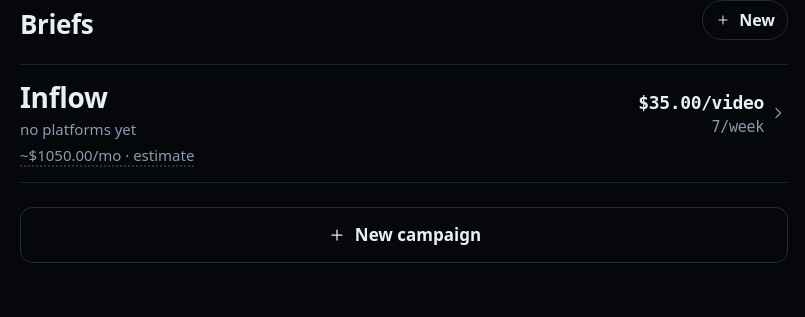
Test: pay per month on each brief › refuses something that is not an amount rather than storing a guess
Expected: the heading "Briefs" is shown, [20,8,93,40]
Click the button with aria-label "Pay per month for Inflow" at (107, 156), box [20,145,194,166]
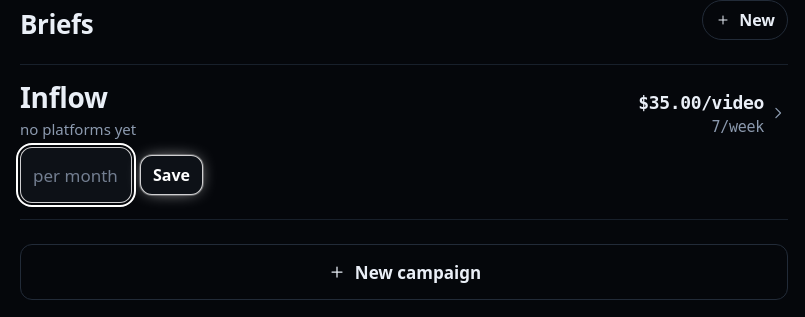
Type "about two grand" into the field named "Pay per month for Inflow" at (76, 175), box [20,147,132,203]
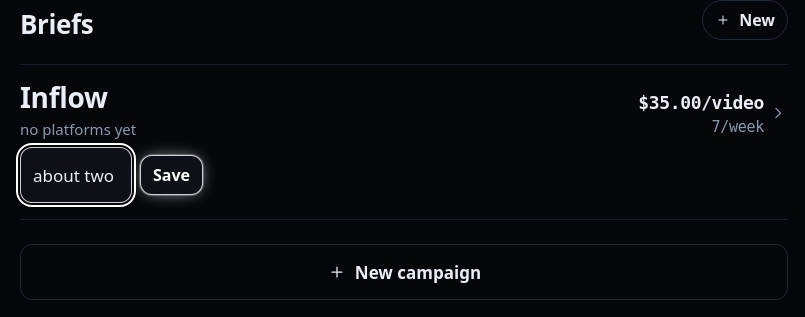
Click the button "Save" at (172, 175), box [140,155,203,195]
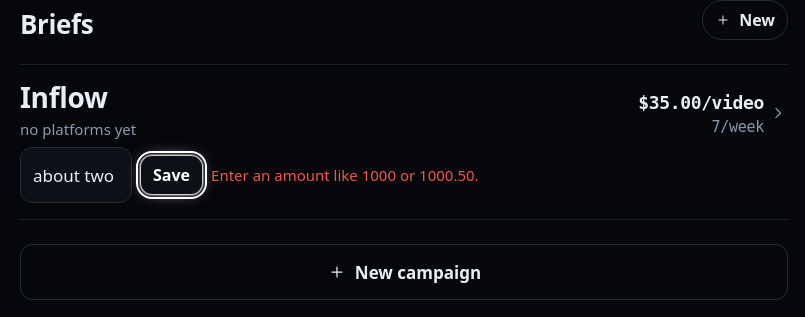
Expected: the text "Enter an amount like 1000 or 1000.50." is shown, [211,165,479,186]
